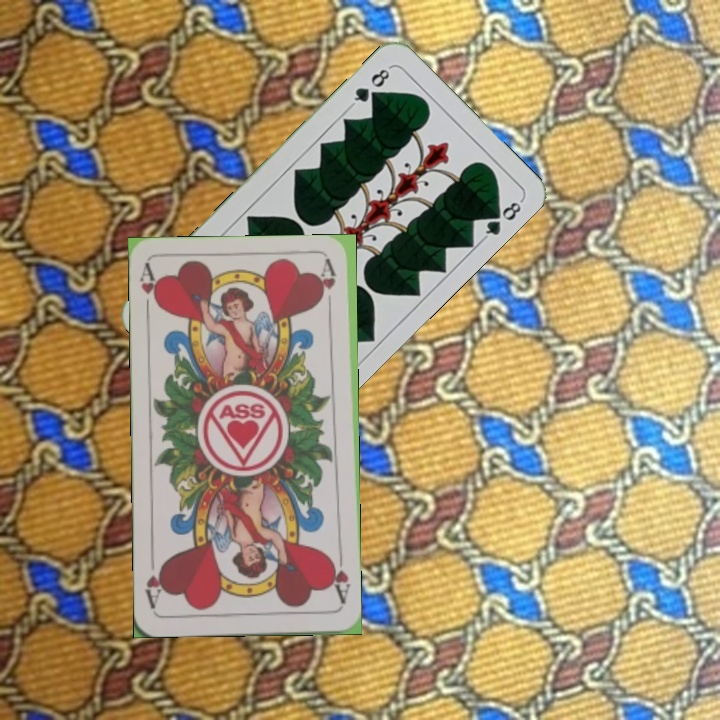G8: (347, 63, 394, 109)
HA: (135, 262, 163, 321), (325, 549, 353, 606)
